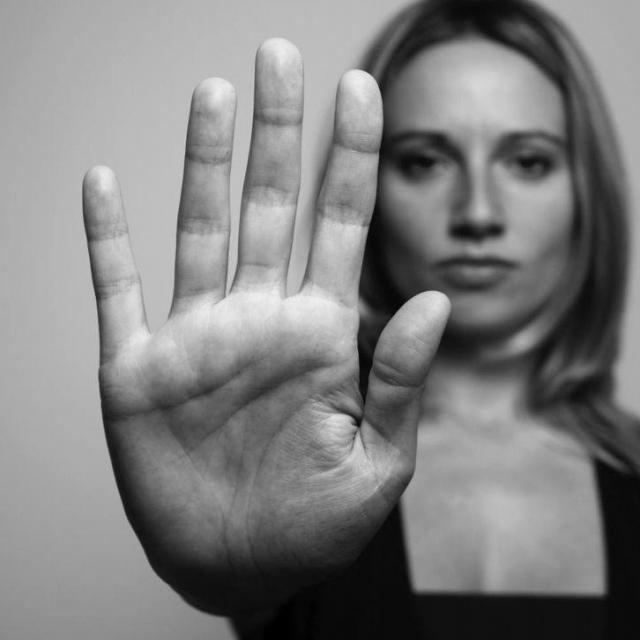stop: (75, 32, 456, 604)
